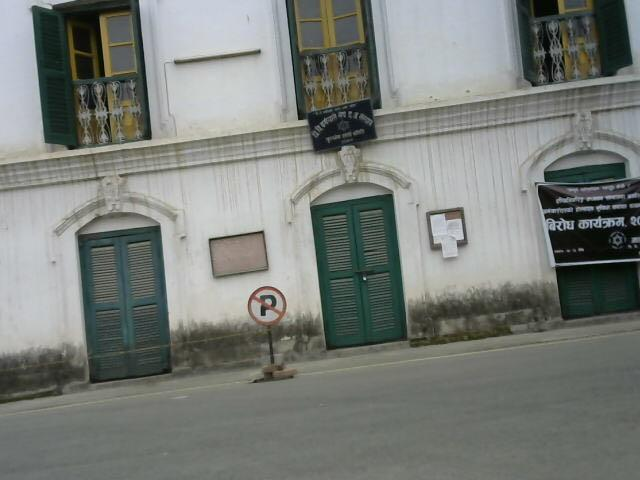Building: (0, 4, 640, 356)
Road: (0, 366, 640, 480)
Traffic sign: (236, 287, 307, 394)
